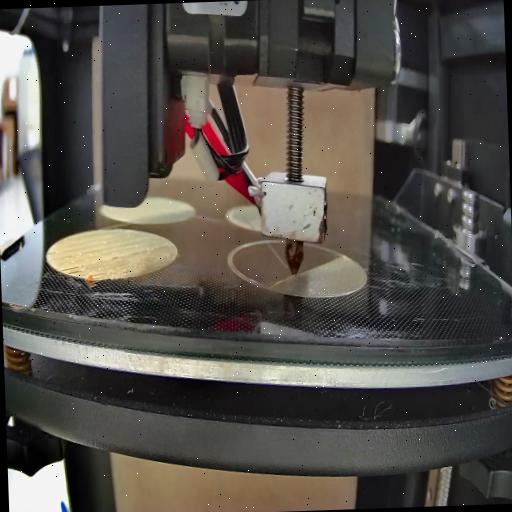under_extrusion: (108, 243, 168, 262), (59, 261, 90, 282), (45, 250, 60, 260)
